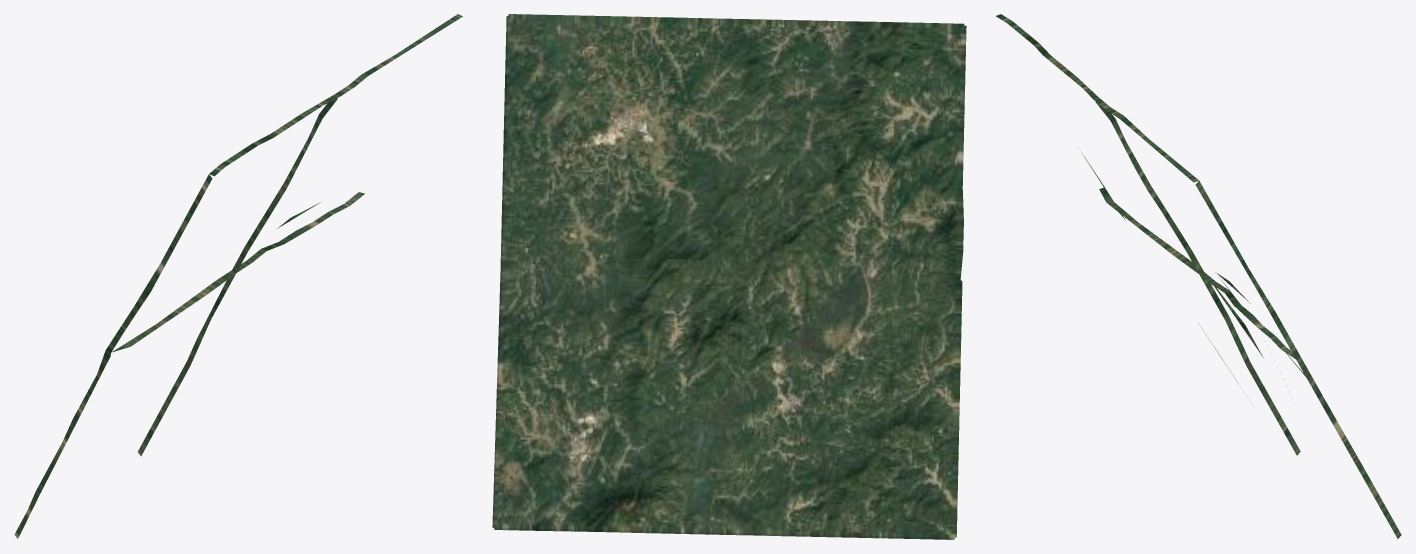
The picture shows the model from 3 angles, left to right: view 1: azimuth 30°, elevation 25°; view 2: azimuth 150°, elevation 25°; view 3: azimuth 270°, elevation 25°; orthographic projection. The views are drawn at different scales.
Bounding box in the file's own units: 79239 × 70684 × 64481.
1 material, 1 textured.
